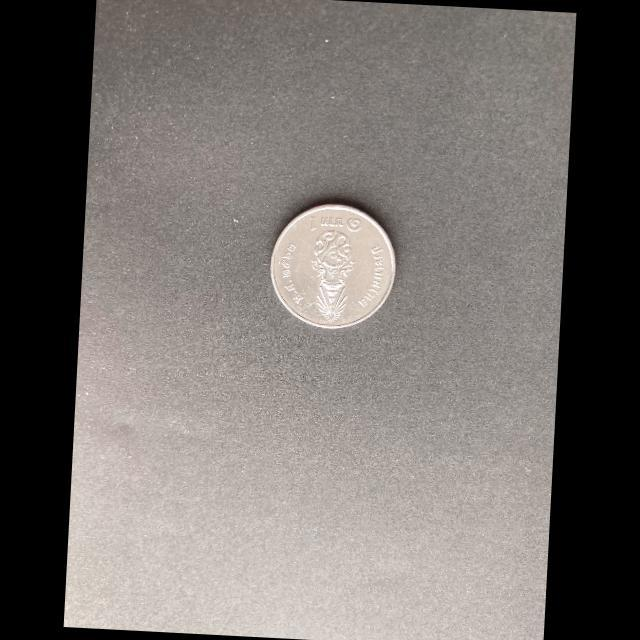1 Bath: (264, 194, 404, 340)
